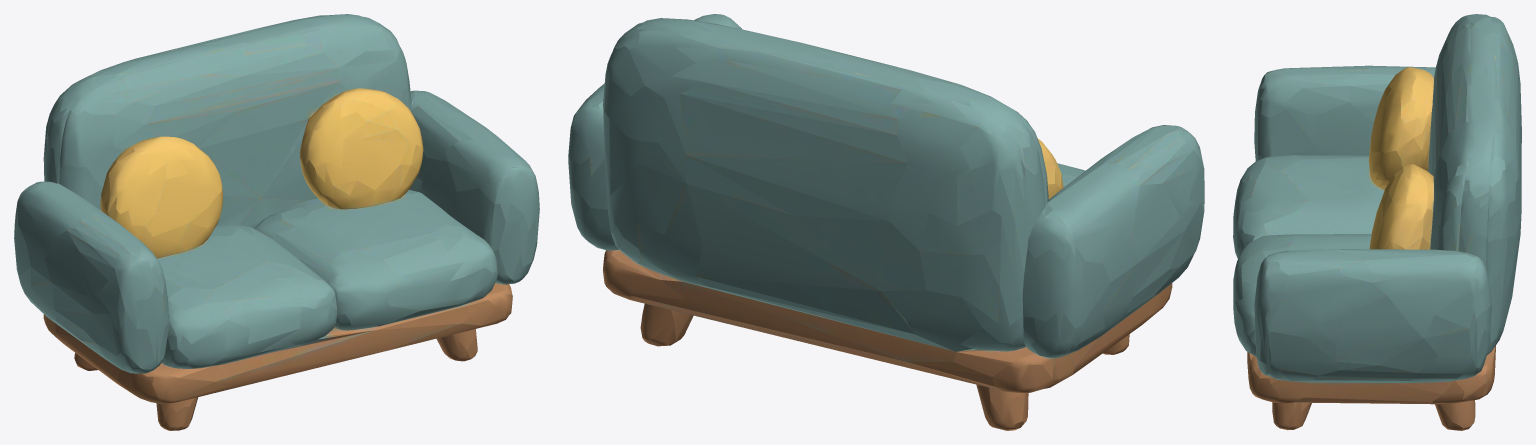
File: sofa.glb
The picture shows the model from 3 angles, left to right: view 1: azimuth 30°, elevation 25°; view 2: azimuth 150°, elevation 25°; view 3: azimuth 270°, elevation 25°; orthographic projection. The views are drawn at different scales.
Size of the model in its own units: 1.8 by 1.12 by 1.03.
Materials: 1 (1 with a texture image).
